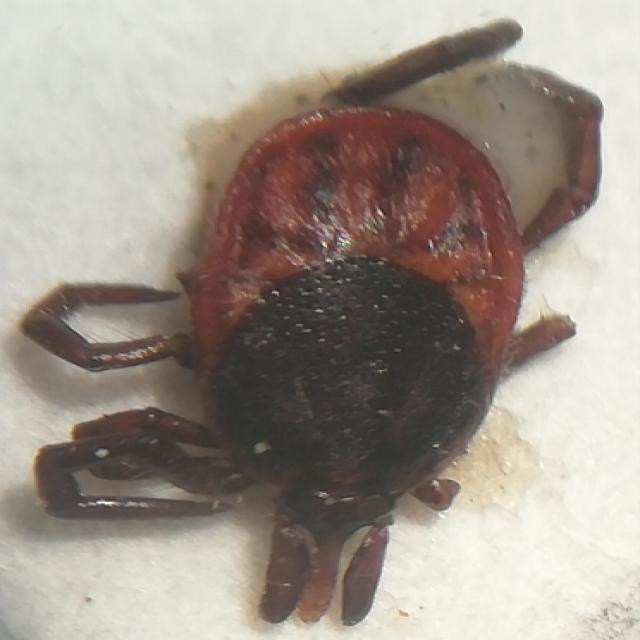Ixodes Ricinus-F: (24, 17, 602, 626)
